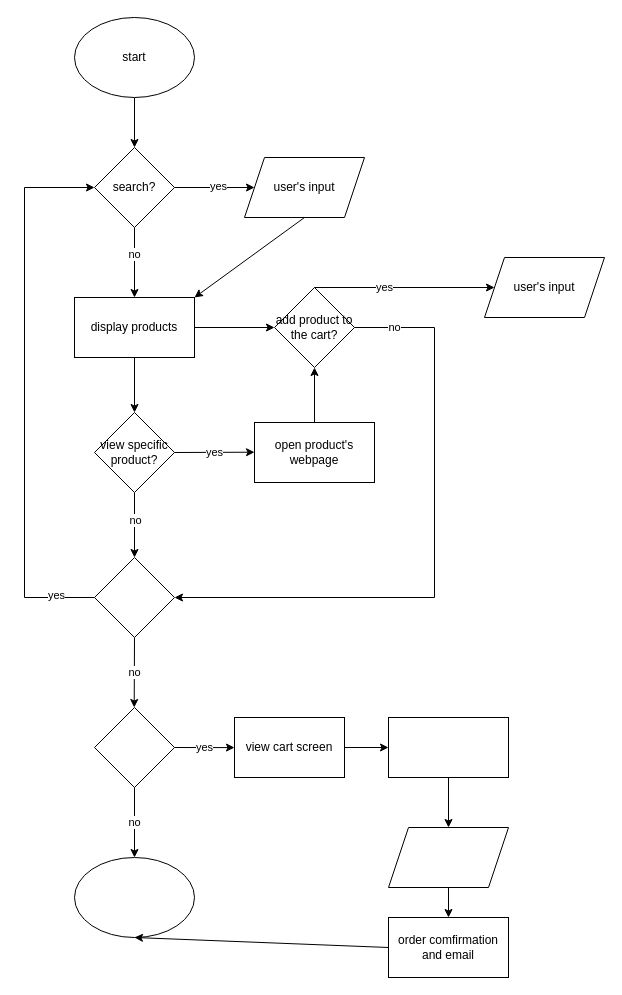
This 622x995 diagram has some shape labels left out. Each missing label, with the box of its shape:
check out?: (94, 706, 174, 788)
continue shopping?: (94, 556, 174, 638)
leave the webpage: (74, 856, 194, 938)
payment input: (388, 826, 508, 888)
view payment screen: (388, 716, 508, 778)
